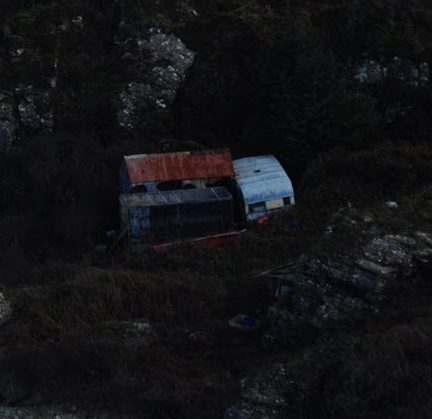cuboid: (106, 183, 239, 255), (226, 144, 309, 228), (113, 145, 239, 186)
tube: (149, 228, 241, 256)
white_in_green: (209, 289, 278, 349)
